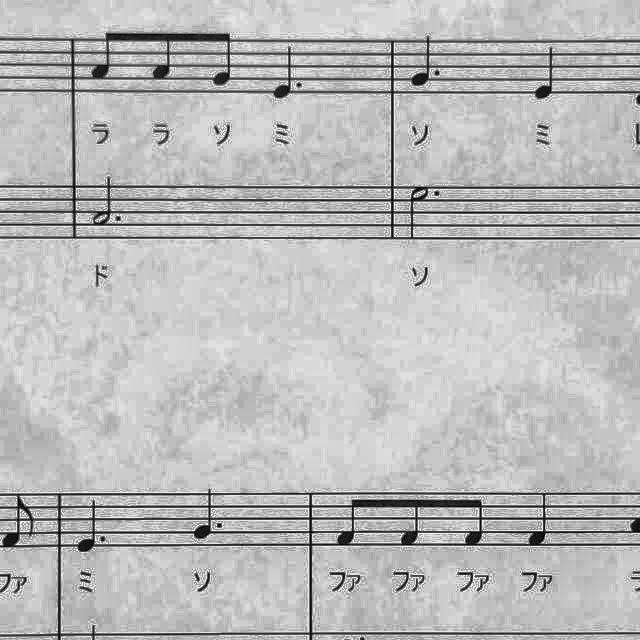Eighth-note: (1, 486, 40, 554), (84, 22, 120, 88), (146, 23, 180, 88), (206, 26, 238, 94), (461, 488, 494, 550), (333, 494, 367, 554), (395, 498, 429, 554)
Half-dot: (405, 177, 447, 245), (86, 173, 126, 230)
Half-note: (530, 42, 570, 106)
Quarter-dot: (264, 30, 316, 106), (182, 470, 230, 548), (405, 33, 447, 96), (72, 494, 112, 558)
Quarter-note: (520, 476, 556, 552)
